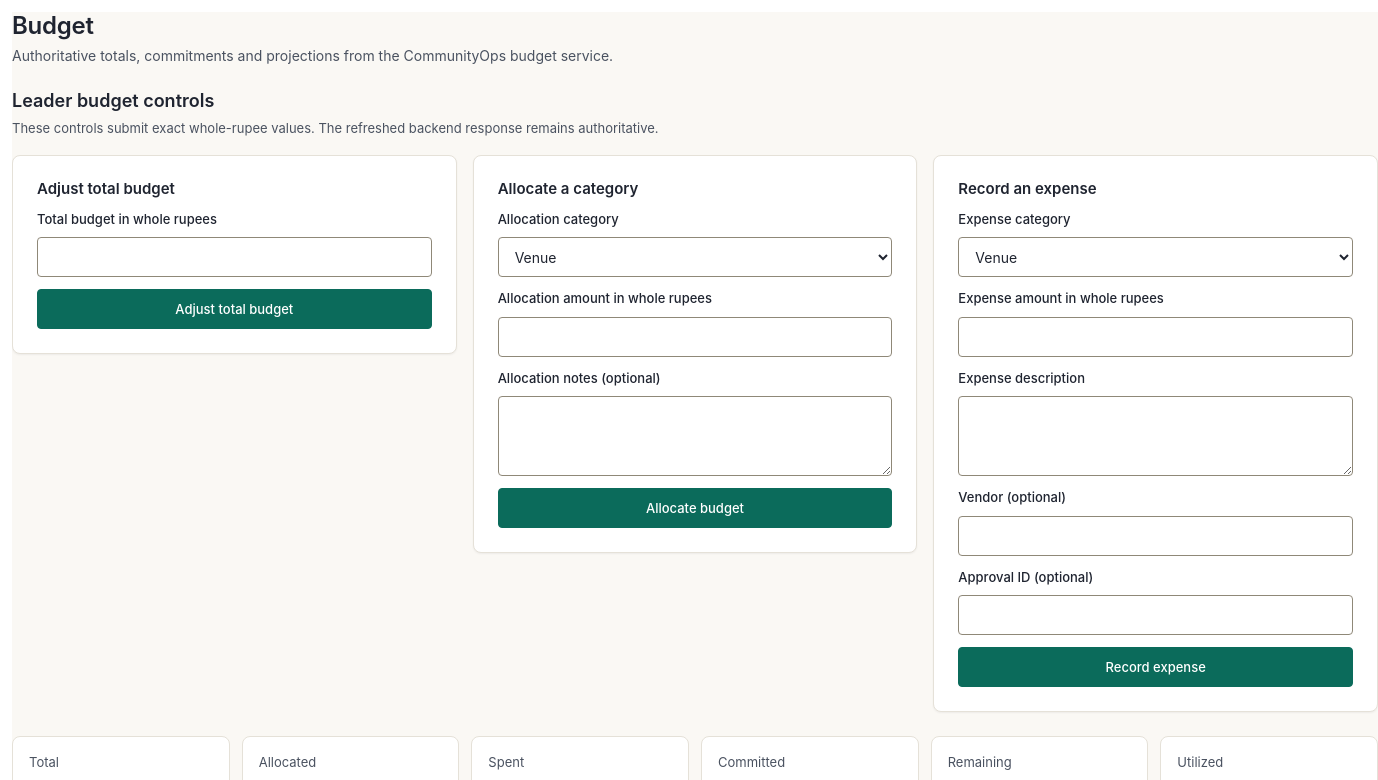
Budget leader controls › rejects invalid total -1 before requesting
Type "-1" into the field labelled "Total budget in whole rupees" at (234, 257), box left=37, top=237, right=432, bottom=277
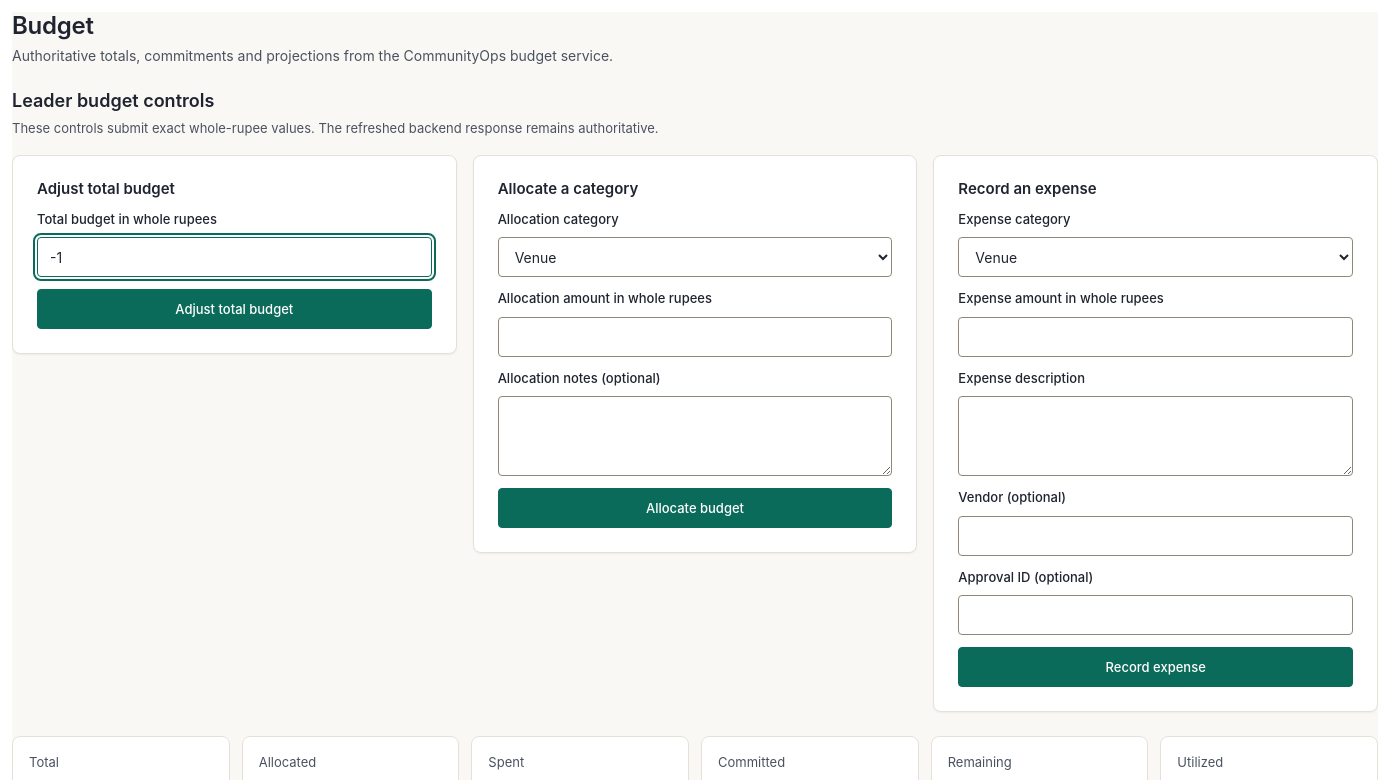
Click the button "Adjust total budget" at (234, 309), box left=37, top=289, right=432, bottom=329
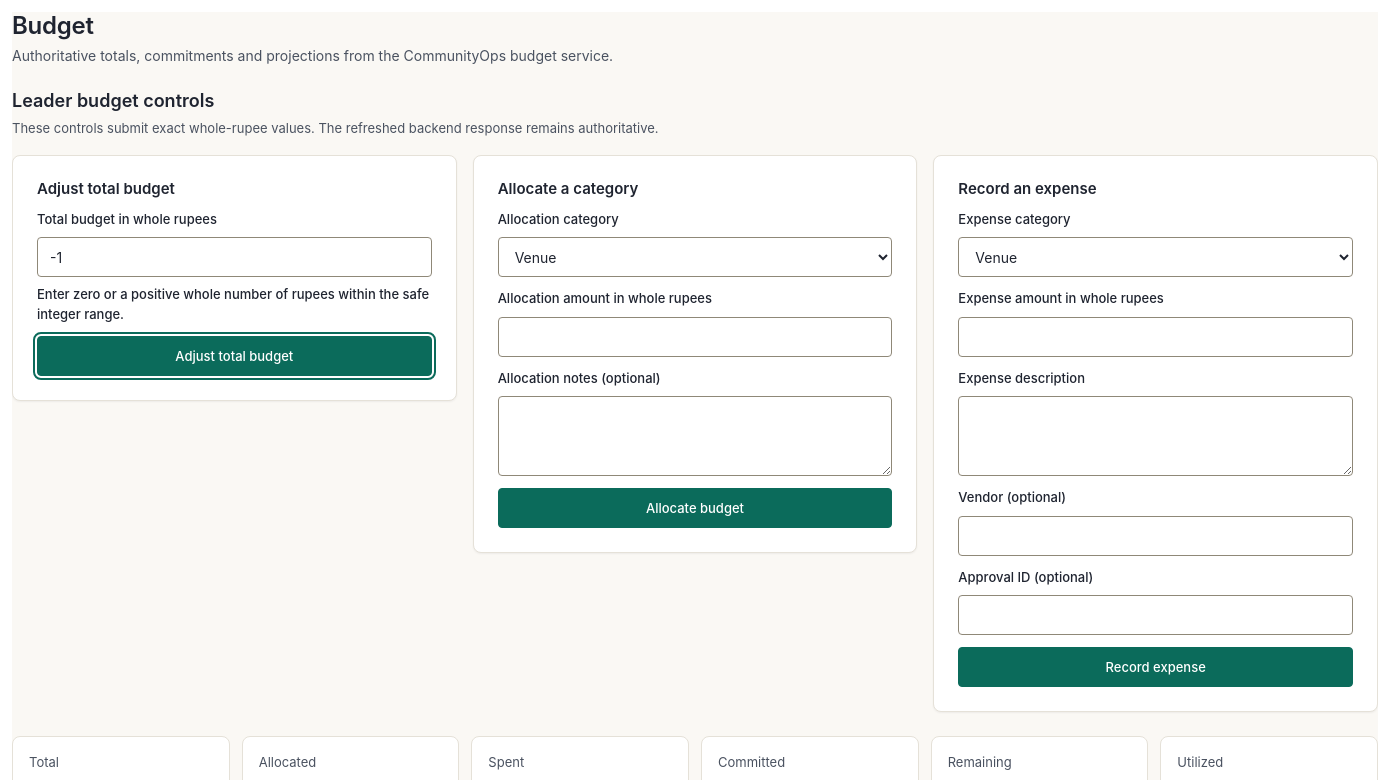
Result: the message shows "whole number of rupees" at left=37, top=286, right=429, bottom=322
